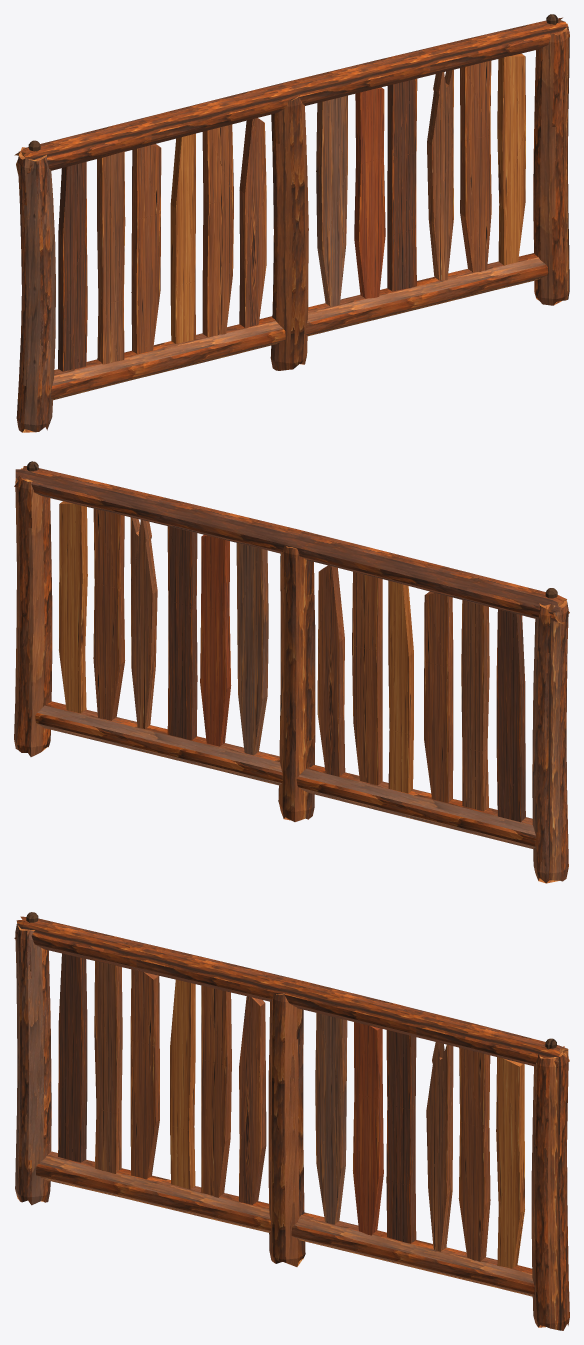
The model's file is railing__plank_root.glb.
3 renders of one model, top to bottom at view 1: azimuth 30°, elevation 25°; view 2: azimuth 150°, elevation 25°; view 3: azimuth 330°, elevation 25°, orthographic.
Visible parts, largest first — view 1: model; view 2: model; view 3: model.
Part boxes in pixels (box(x1,y1,x2,y2)): model: box(14, 14, 569, 432); model: box(14, 461, 569, 883); model: box(14, 912, 569, 1330).
Bounding box in the file's own units: 1.97 × 0.9879 × 0.1218.
Materials: 18 (18 with a texture image).
